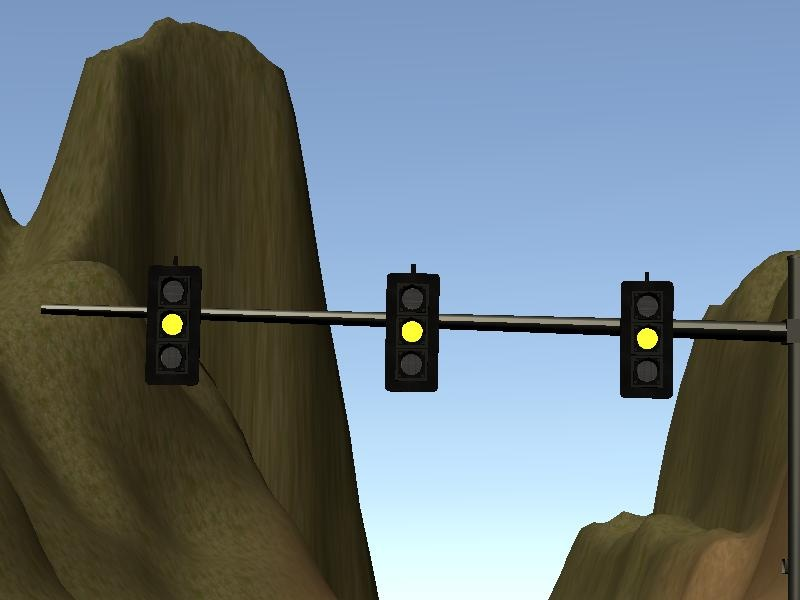yellow: (385, 271, 440, 392), (621, 278, 674, 401), (145, 266, 197, 387)
